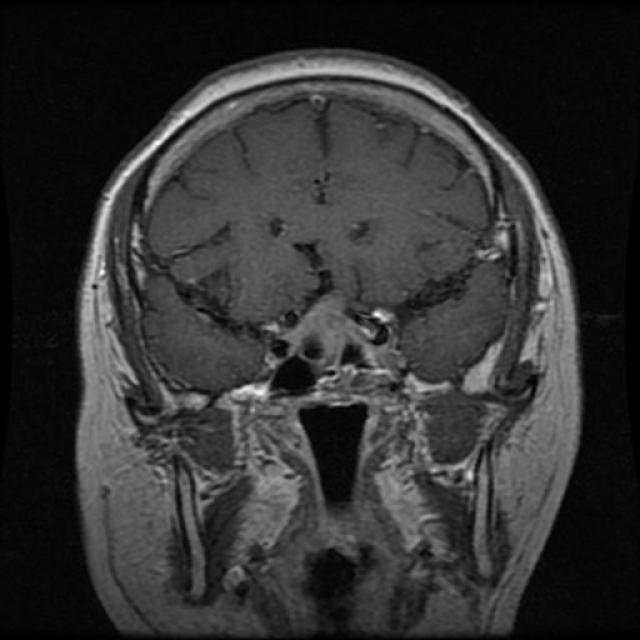pituitary: (226, 302, 417, 406)
